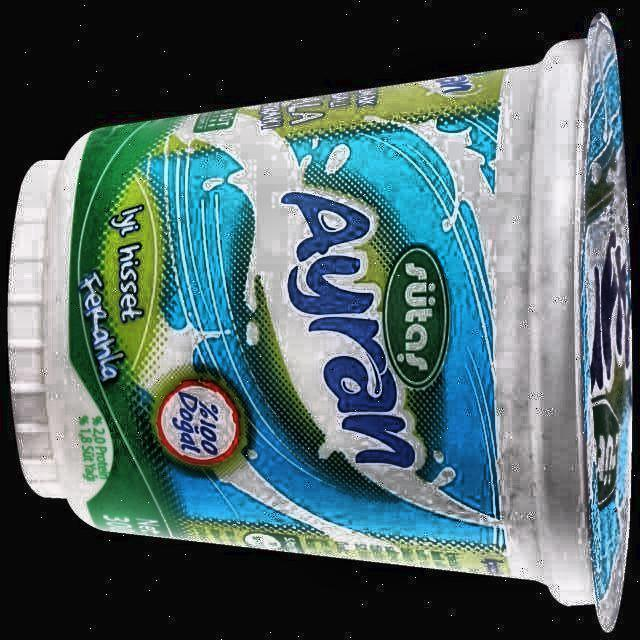plastic: (8, 14, 632, 630)
